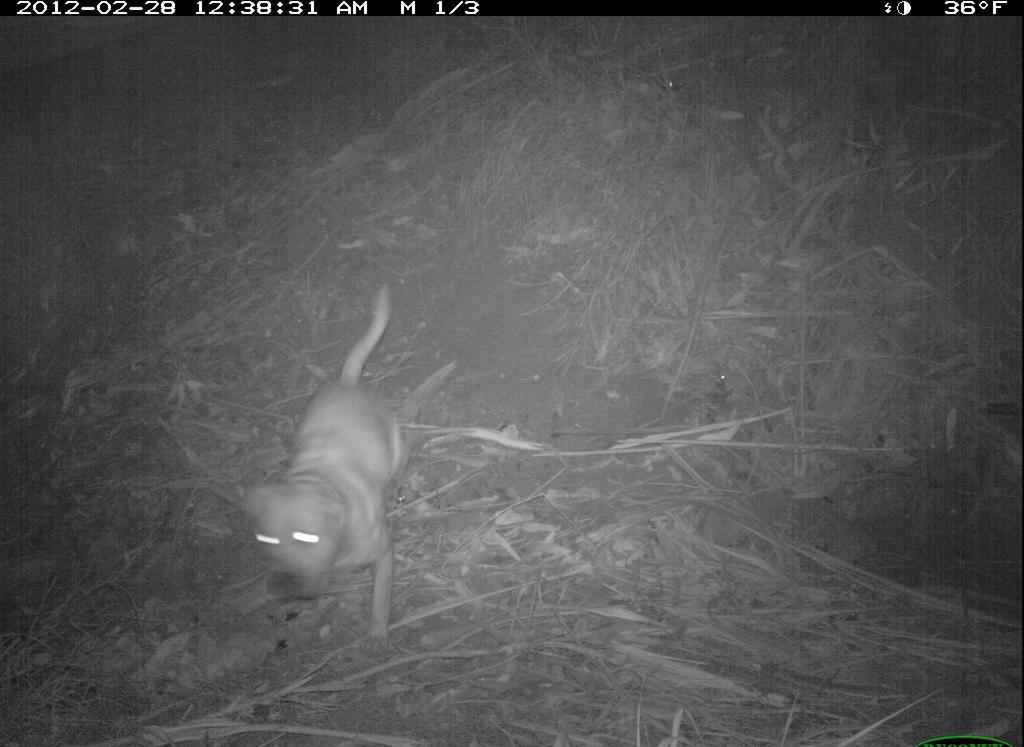dog: (231, 273, 444, 673)
